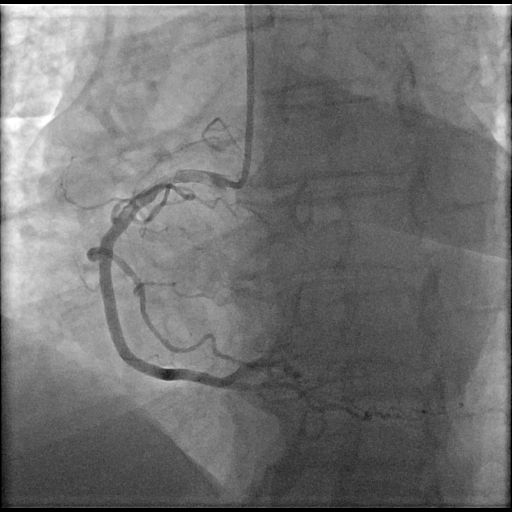RCA: (86, 170, 288, 391)
catherter: (233, 5, 254, 188)
